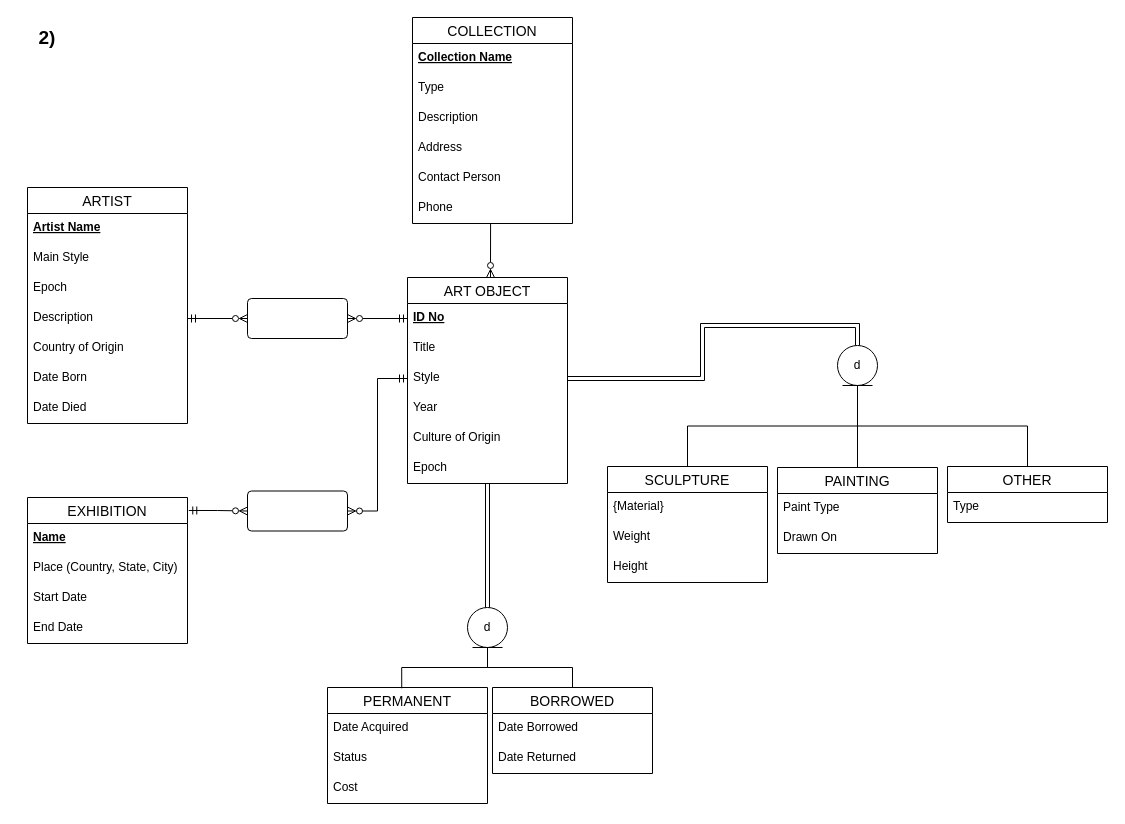
Some shapes in this 1125 by 824 pixel diagram are drawn without their labels. Each missing label, with the centre of its shape:
"CREATES" belongs at point 297,318.
"SHOWN AT" belongs at point 297,510.
